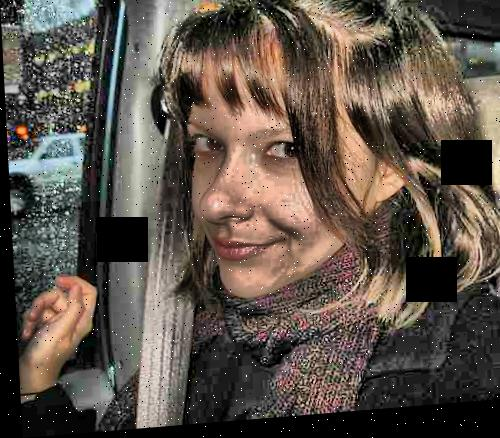seatbelt: (118, 122, 224, 413)
